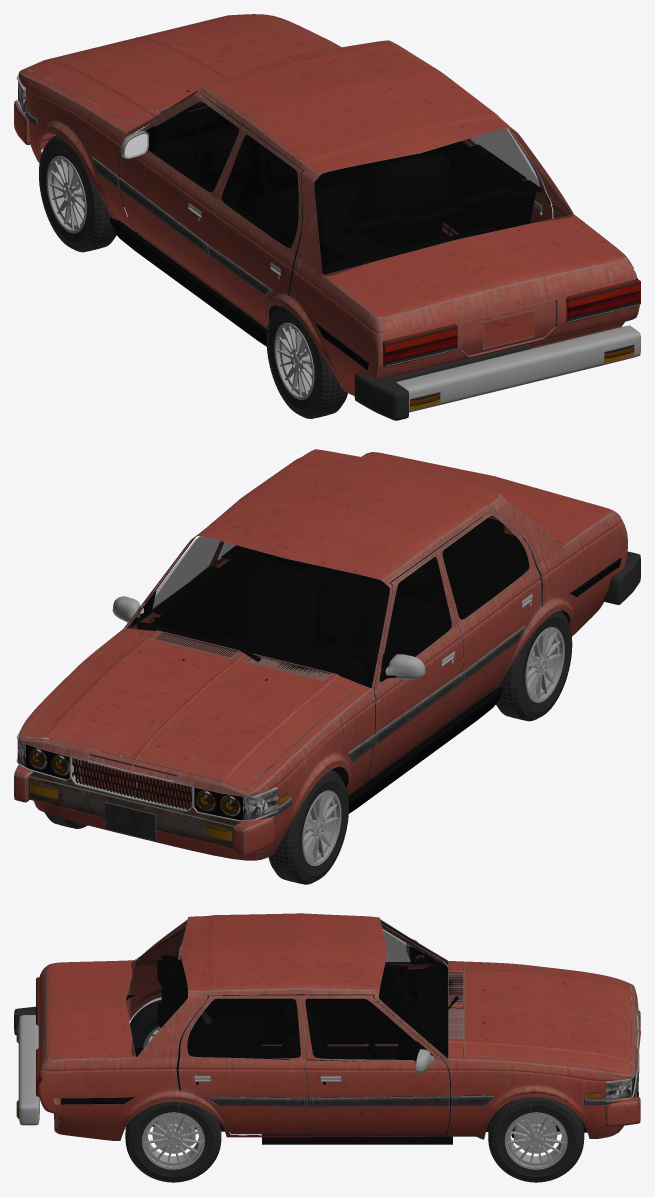
The model's file is obj_toyota_corolla_e70.glb.
3 views of the same model, one above another, from view 1: azimuth 30°, elevation 25°; view 2: azimuth 150°, elevation 25°; view 3: azimuth 270°, elevation 25° (orthographic). The views are drawn at different scales.
Parts seen in each view (by area): view 1: base001, Object016_Material #53_0, toy_corolladx_95_interior_interior_001_Acrylic Opaque Black_, Plane013, Box043, toy_corolladx_95_seatR_interior_001, Plane007__0, Object001_Aluminium Brushed Distorted_0, toy_corolladx_95_seatL_interior_001, Box004, Plane009, Box044 (+4 smaller); view 2: base001, Object_Material #53_0, toy_corolladx_95_interior_interior_001_Acrylic Opaque Black_, Plane013, Plane007__0, toy_corolladx_95_seatR_interior_001, toy_corolladx_95_seatL_interior_001, Object001_Aluminium Brushed Distorted_0, NGon001_Acrylic Opaque Black_0, Box004, Plane009, NGon001_Aluminium Brushed Distorted_0 (+6 smaller); view 3: base001, toy_corolladx_95_interior_interior_001_Acrylic Opaque Black_, Plane013, Plane007__0, Object001_Aluminium Brushed Distorted_0, Object_Material #53_0, Object016_Material #53_0, Box043, toy_corolladx_95_seatL_interior_001, toy_corolladx_95_seatR_interior_001, toy_corolladx_95_undercarriagea_undercarriage_001_Acrylic Op, Box004 (+3 smaller).
Part boxes in pixels (x1=…): base001: x1=14, y1=14, x2=639, y2=395; Object016_Material #53_0: x1=314, y1=129, x2=572, y2=275; toy_corolladx_95_interior_interior_001_Acrylic Opaque Black_: x1=136, y1=106, x2=543, y2=318; Plane013: x1=154, y1=102, x2=550, y2=254; Box043: x1=396, y1=325, x2=640, y2=412; toy_corolladx_95_seatR_interior_001: x1=345, y1=148, x2=450, y2=250; Plane007__0: x1=39, y1=135, x2=347, y2=418; Object001_Aluminium Brushed Distorted_0: x1=46, y1=156, x2=314, y2=399; toy_corolladx_95_seatL_interior_001: x1=210, y1=155, x2=324, y2=274; Box004: x1=109, y1=217, x2=269, y2=346; Plane009: x1=354, y1=343, x2=530, y2=420; Box044: x1=382, y1=324, x2=457, y2=367; base001: x1=14, y1=449, x2=627, y2=860; Object_Material #53_0: x1=128, y1=536, x2=389, y2=687; toy_corolladx_95_interior_interior_001_Acrylic Opaque Black_: x1=137, y1=516, x2=529, y2=786; Plane013: x1=136, y1=511, x2=536, y2=660; Plane007__0: x1=45, y1=603, x2=572, y2=884; toy_corolladx_95_seatR_interior_001: x1=221, y1=552, x2=321, y2=646; toy_corolladx_95_seatL_interior_001: x1=349, y1=567, x2=444, y2=751; Object001_Aluminium Brushed Distorted_0: x1=78, y1=627, x2=564, y2=865; NGon001_Acrylic Opaque Black_0: x1=26, y1=744, x2=242, y2=820; Box004: x1=346, y1=687, x2=502, y2=813; Plane009: x1=522, y1=544, x2=640, y2=604; NGon001_Aluminium Brushed Distorted_0: x1=16, y1=726, x2=278, y2=821; base001: x1=38, y1=913, x2=640, y2=1140; toy_corolladx_95_interior_interior_001_Acrylic Opaque Black_: x1=157, y1=955, x2=463, y2=1144; Plane013: x1=174, y1=931, x2=433, y2=1058; Plane007__0: x1=125, y1=1000, x2=584, y2=1182; Object001_Aluminium Brushed Distorted_0: x1=142, y1=1026, x2=567, y2=1169; Object_Material #53_0: x1=379, y1=919, x2=447, y2=1057; Object016_Material #53_0: x1=130, y1=927, x2=187, y2=1056; Box043: x1=18, y1=1015, x2=39, y2=1125; toy_corolladx_95_seatL_interior_001: x1=281, y1=994, x2=383, y2=1058; toy_corolladx_95_seatR_interior_001: x1=280, y1=1000, x2=329, y2=1119; toy_corolladx_95_undercarriagea_undercarriage_001_Acrylic Op: x1=61, y1=1047, x2=604, y2=1150; Box004: x1=262, y1=1046, x2=463, y2=1055.
Size of the model in its own units: 189 by 139 by 415.
8 materials, 3 textured.
